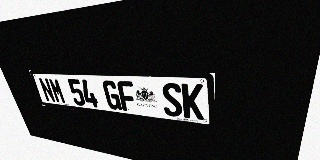4: (79, 79, 99, 108)
5: (67, 79, 87, 106)
F: (116, 81, 138, 112)
G: (101, 80, 122, 110)
K: (181, 83, 204, 120)
M: (48, 78, 67, 104)
N: (38, 78, 56, 103)
S: (161, 82, 183, 118)
